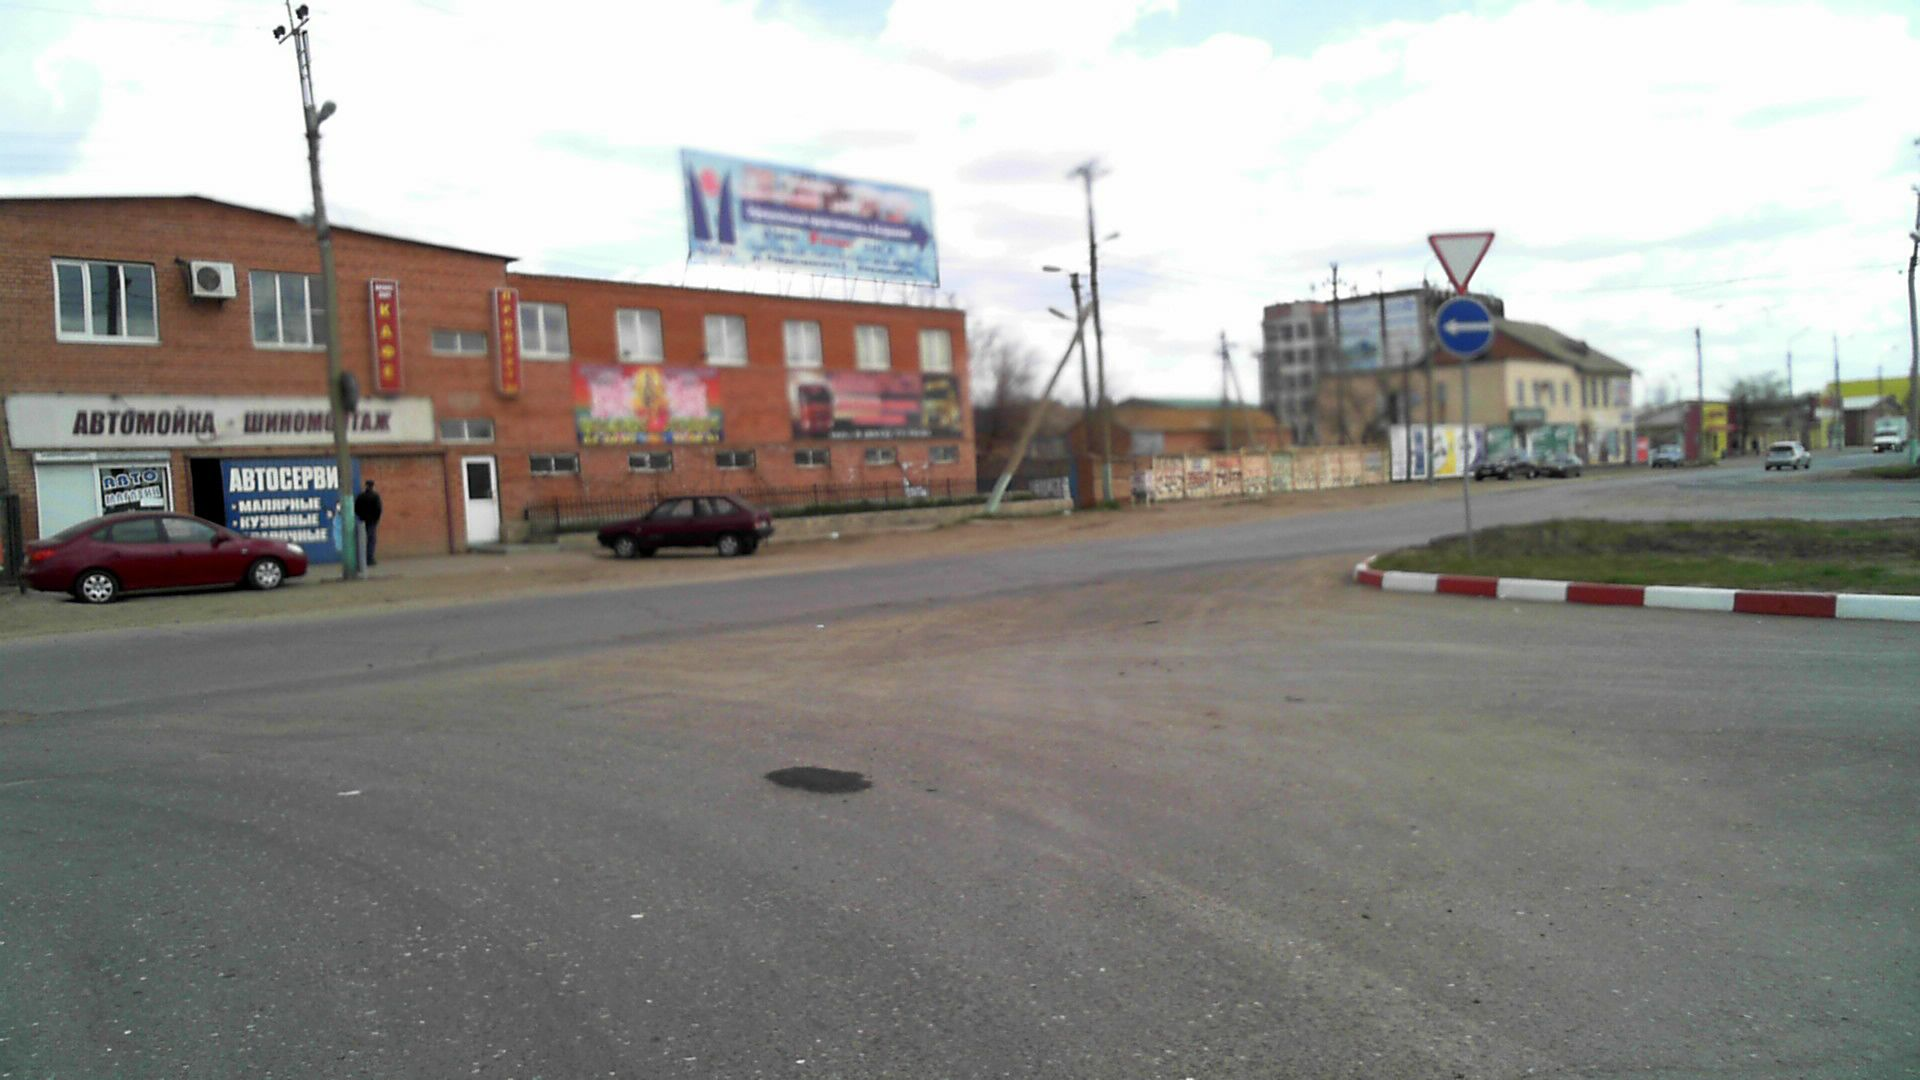Turn Left: (1433, 297, 1494, 355)
